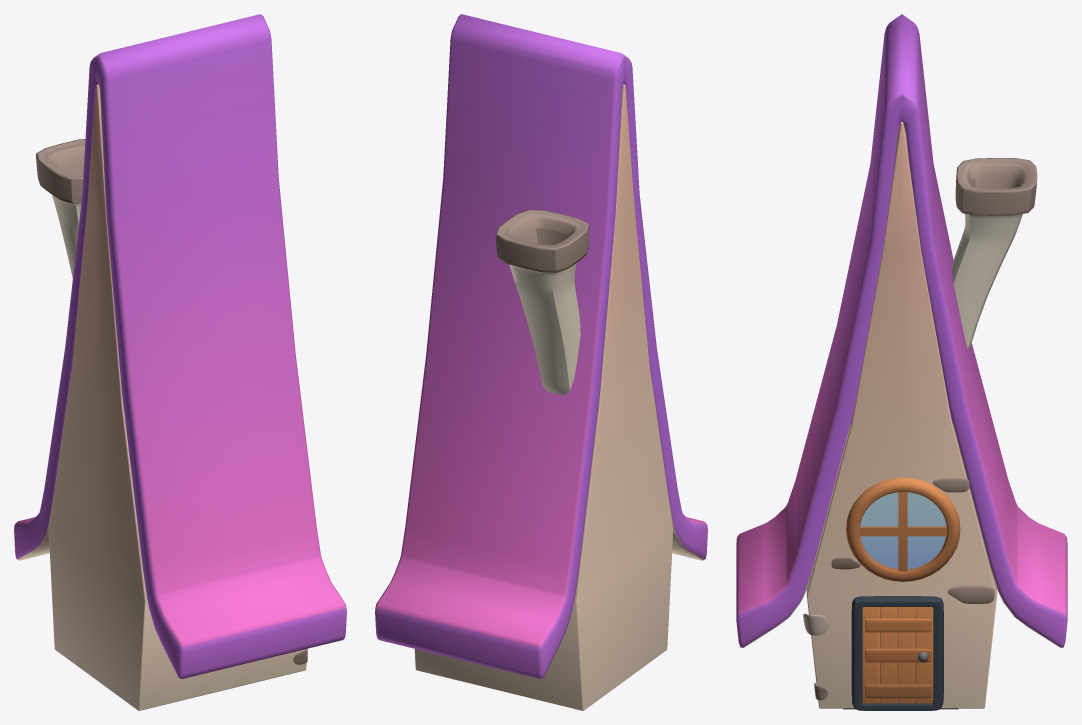
File: Huisjes paarsdak.fbx
3 views of the same model, side by side, from view 1: azimuth 30°, elevation 25°; view 2: azimuth 150°, elevation 25°; view 3: azimuth 270°, elevation 25° (orthographic).
Parts seen in each view (by area): view 1: Cube.003, Cube.001, Cube.004; view 2: Cube.003, Cube.001, Cube.004; view 3: Cube.003, Cube.001, Cube.004, Cylinder.008, Cylinder.003, Plane.003, Cylinder.009, Cube.015, Cylinder.005, Cylinder.006, Cylinder.007, Cube.028.
Part boxes in pixels (x1,y1,x2,y2): Cube.003: (14,14,346,678); Cube.001: (48,84,306,710); Cube.004: (36,139,85,278); Cube.003: (375,14,707,678); Cube.001: (414,84,673,710); Cube.004: (495,209,588,394); Cube.003: (736,14,1067,647); Cube.001: (806,122,997,708); Cube.004: (952,158,1037,350); Cylinder.008: (862,607,933,703); Cylinder.003: (846,477,960,581); Plane.003: (860,492,946,569); Cylinder.009: (851,596,943,710); Cube.015: (859,492,947,571); Cylinder.005: (865,684,931,698); Cylinder.006: (865,618,931,632); Cylinder.007: (865,648,931,662); Cube.028: (948,585,994,603).
Size of the model in its own units: 218 by 715 by 348.
